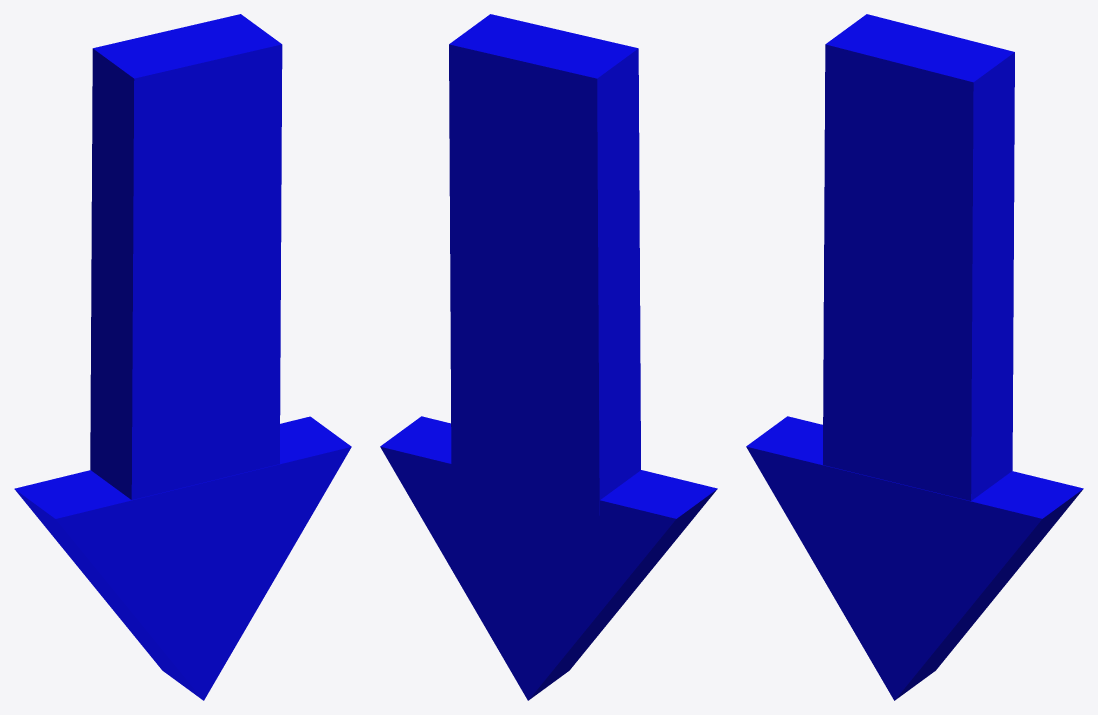
File: speeddown.fbx
3 renders of one model, left to right at view 1: azimuth 30°, elevation 25°; view 2: azimuth 150°, elevation 25°; view 3: azimuth 330°, elevation 25°, orthographic.
Visible parts, largest first — view 1: Box; view 2: Box; view 3: Box.
Part boxes in pixels (left/top/right/bottom): Box: left=14, top=14, right=351, bottom=700; Box: left=380, top=14, right=717, bottom=700; Box: left=746, top=14, right=1083, bottom=700.
Bounding box in the file's own units: 118 × 243 × 28.83.
1 material, 1 textured.
